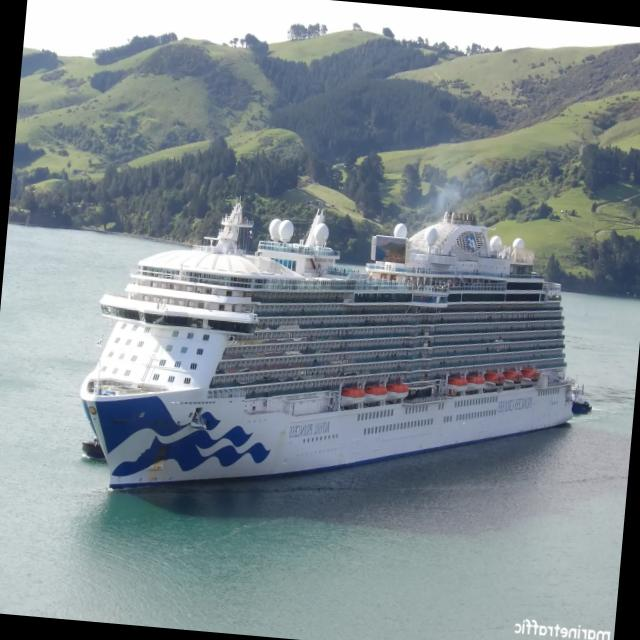Cruise: (80, 202, 575, 488)
Tug: (572, 384, 591, 413)
